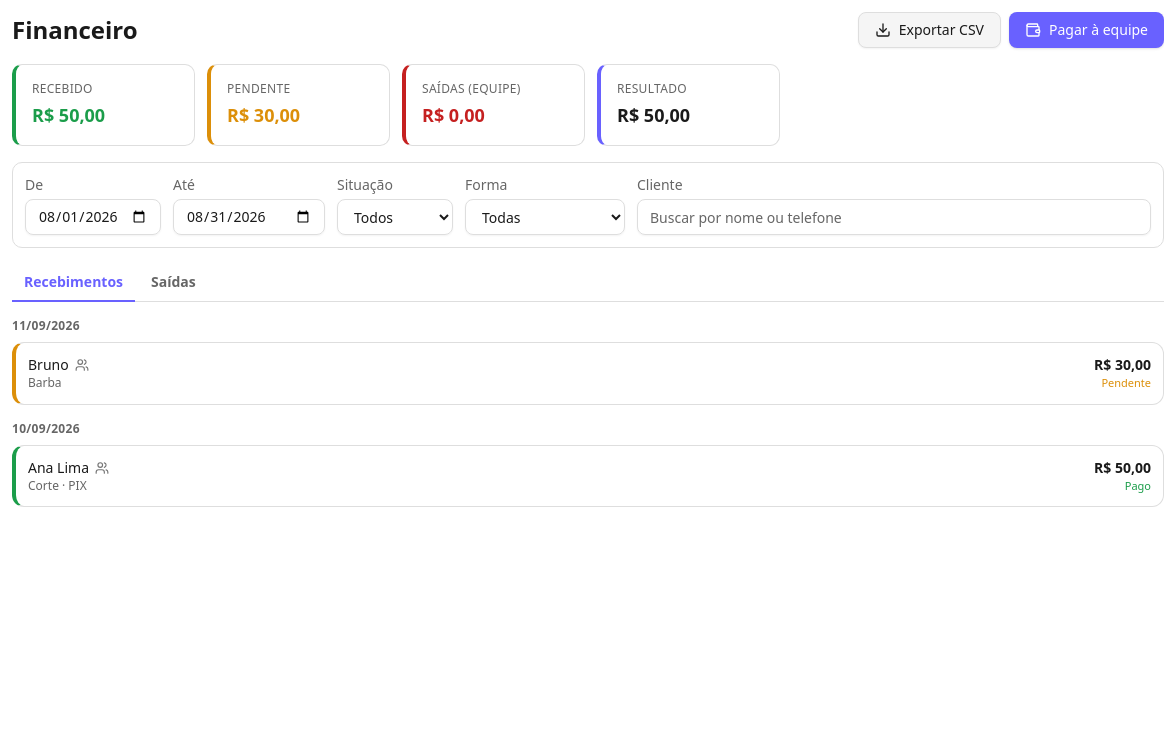
Test: Financeiro — recebimentos (Stories 5.2/5.3) › desktop: filtra por cliente via BUSCA (nome/telefone), como no Novo agendamento
The width and height of the screenshot is (1176, 732).
Check: the text "Corte · PIX" is shown, box [28,477,87,494]
Note: Digita na busca → autocomplete (backend por nome/telefone, debounce).
Type "Ana" into the field named "Cliente".
click(894, 217); type("Ana")  # box [637,199,1151,235]
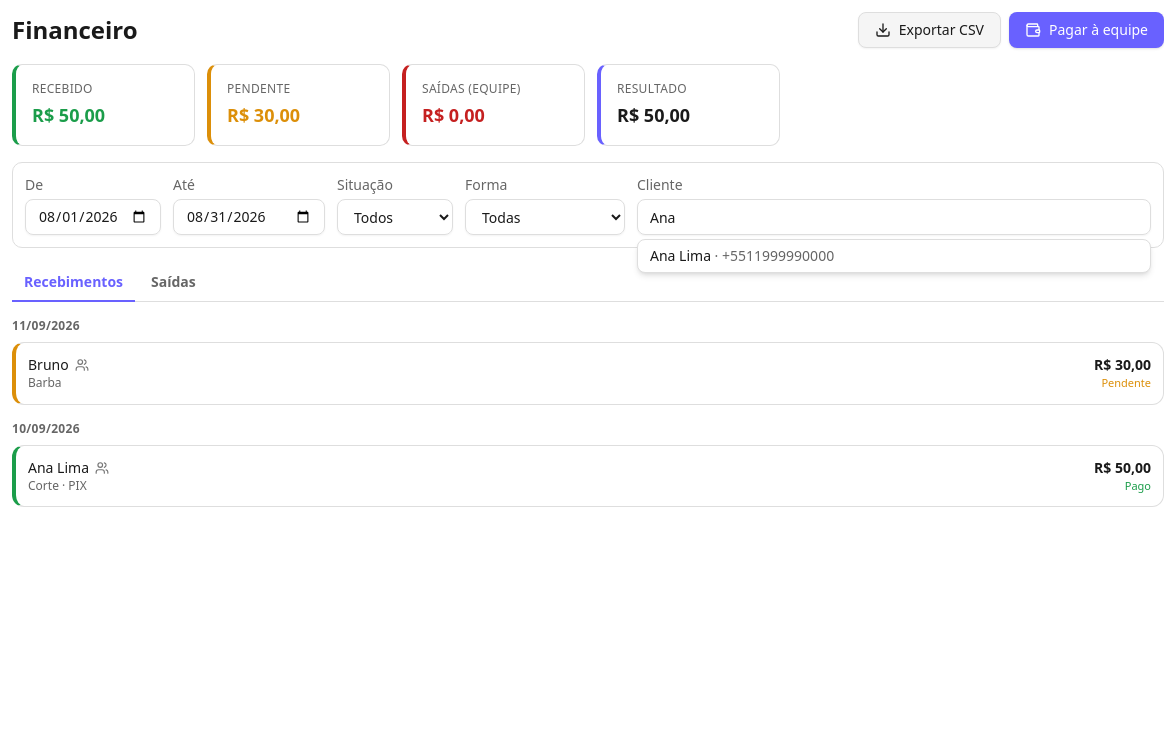
Click the button "Ana Lima · +5511999990000".
click(680, 256)  # box [638,240,1150,272]
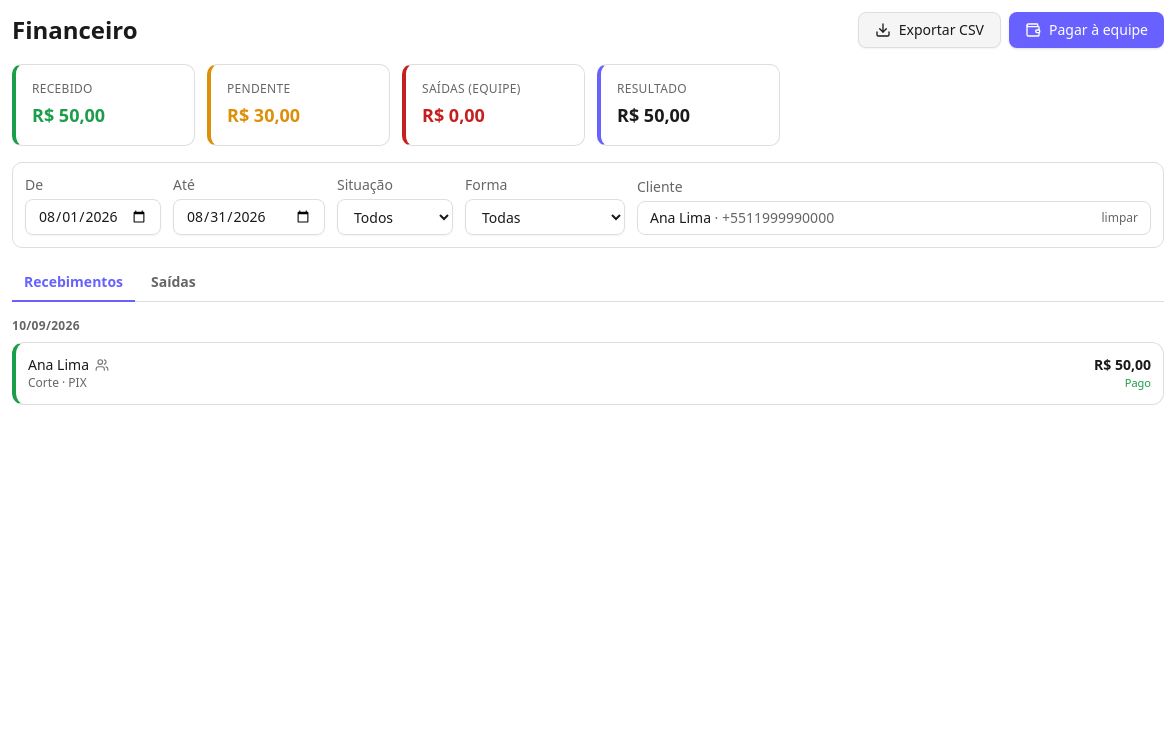
Check: the text "Corte · PIX" is shown, box [28,374,87,391]
Check: the button "Barba" is gone
